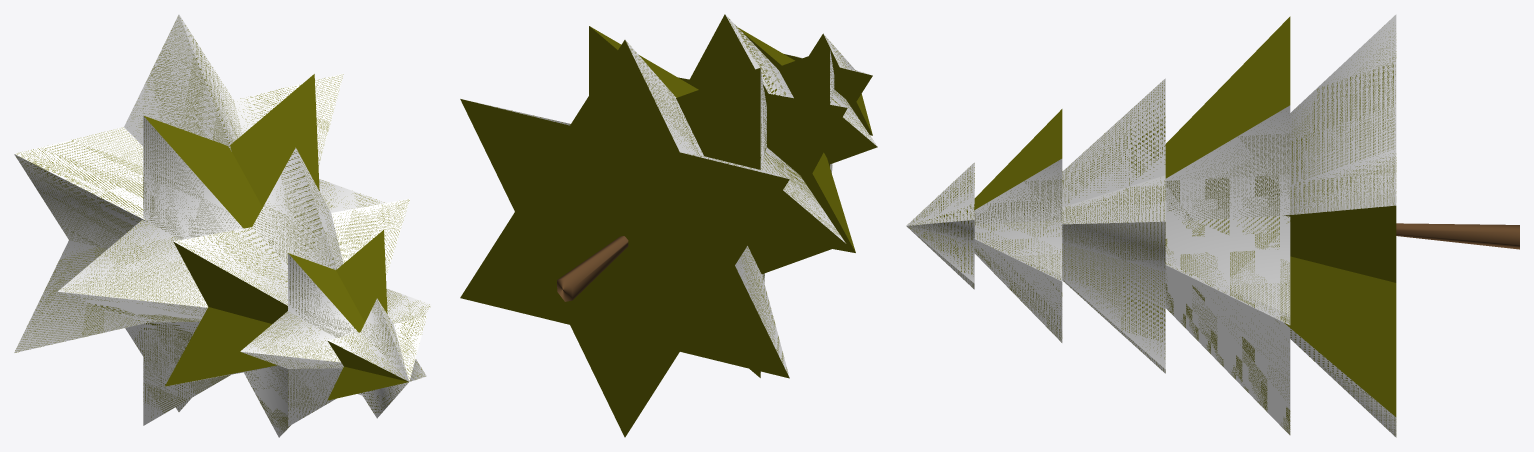
The model's file is tree_1.dae.
3 renders of one model, left to right at view 1: azimuth 30°, elevation 25°; view 2: azimuth 150°, elevation 25°; view 3: azimuth 270°, elevation 25°, orthographic. The views are drawn at different scales.
Parts seen in each view (by area): view 1: coords_ME_ID15_MA_material, coords_ME_ID22_MA_material, coords_ME_ID22_MA_Color_E16, coords_ME_ID36_MA_material, coords_ME_ID36_MA_Color_E16, coords_ME_ID15_MA_Color_E16, coords_ME_ID29_MA_material, coords_ME_ID29_MA_Color_E16, coords_ME_ID4_MA_material, coords_ME_ID4_MA_Color_E16; view 2: coords_ME_ID15_MA_Color_E16, coords_ME_ID22_MA_Color_E16, coords_ME_ID36_MA_Color_E16, coords_ME_ID15_MA_material, coords_ME_ID29_MA_Color_E16, coords_ME_ID22_MA_material, coords_ME_ID4_MA_Color_E16, coords_ME_ID42_MA_Color_C18, coords_ME_ID36_MA_material, coords_ME_ID29_MA_material; view 3: coords_ME_ID22_MA_material, coords_ME_ID15_MA_Color_E16, coords_ME_ID36_MA_material, coords_ME_ID15_MA_material, coords_ME_ID22_MA_Color_E16, coords_ME_ID29_MA_material, coords_ME_ID36_MA_Color_E16, coords_ME_ID29_MA_Color_E16, coords_ME_ID4_MA_material, coords_ME_ID42_MA_Color_C18, coords_ME_ID4_MA_Color_E16.
Boxes of the visible parts, left/top/right/bottom form: coords_ME_ID15_MA_material: left=14, top=14, right=343, bottom=411; coords_ME_ID22_MA_material: left=57, top=116, right=385, bottom=425; coords_ME_ID22_MA_Color_E16: left=60, top=74, right=384, bottom=417; coords_ME_ID36_MA_material: left=173, top=147, right=409, bottom=437; coords_ME_ID36_MA_Color_E16: left=165, top=148, right=409, bottom=431; coords_ME_ID15_MA_Color_E16: left=15, top=17, right=343, bottom=411; coords_ME_ID29_MA_material: left=240, top=253, right=431, bottom=426; coords_ME_ID29_MA_Color_E16: left=246, top=230, right=429, bottom=419; coords_ME_ID4_MA_material: left=327, top=298, right=426, bottom=418; coords_ME_ID4_MA_Color_E16: left=327, top=300, right=425, bottom=412; coords_ME_ID15_MA_Color_E16: left=460, top=40, right=789, bottom=437; coords_ME_ID22_MA_Color_E16: left=589, top=26, right=845, bottom=377; coords_ME_ID36_MA_Color_E16: left=678, top=14, right=855, bottom=252; coords_ME_ID15_MA_material: left=467, top=40, right=789, bottom=377; coords_ME_ID29_MA_Color_E16: left=738, top=27, right=877, bottom=171; coords_ME_ID22_MA_material: left=760, top=69, right=845, bottom=372; coords_ME_ID4_MA_Color_E16: left=784, top=33, right=872, bottom=135; coords_ME_ID42_MA_Color_C18: left=557, top=236, right=628, bottom=301; coords_ME_ID36_MA_material: left=725, top=15, right=793, bottom=98; coords_ME_ID29_MA_material: left=830, top=50, right=877, bottom=173; coords_ME_ID22_MA_material: left=1165, top=105, right=1290, bottom=435; coords_ME_ID15_MA_Color_E16: left=1284, top=36, right=1396, bottom=435; coords_ME_ID36_MA_material: left=1062, top=78, right=1165, bottom=373; coords_ME_ID15_MA_material: left=1285, top=14, right=1396, bottom=436; coords_ME_ID22_MA_Color_E16: left=1165, top=16, right=1290, bottom=434; coords_ME_ID29_MA_material: left=974, top=159, right=1062, bottom=342; coords_ME_ID36_MA_Color_E16: left=1062, top=81, right=1165, bottom=372; coords_ME_ID29_MA_Color_E16: left=974, top=109, right=1062, bottom=342; coords_ME_ID4_MA_material: left=906, top=162, right=974, bottom=289; coords_ME_ID42_MA_Color_C18: left=1396, top=223, right=1519, bottom=249; coords_ME_ID4_MA_Color_E16: left=909, top=163, right=974, bottom=288.
Size of the model in its own units: 58.43 by 64.91 by 85.15.
